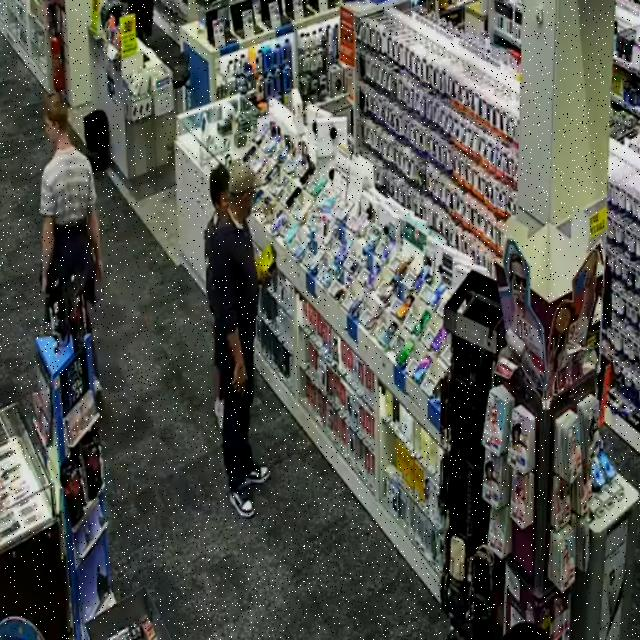article: (254, 243, 277, 280)
hands: (232, 361, 247, 394), (96, 258, 103, 280), (259, 272, 270, 285), (41, 275, 47, 293)
person: (208, 165, 269, 517), (41, 95, 102, 303), (205, 165, 229, 290)
